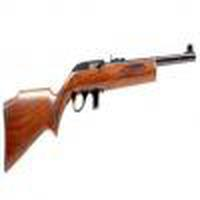gun: (4, 40, 200, 167)
